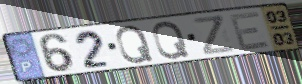2: (73, 27, 116, 72)
6: (38, 33, 77, 74)
E: (227, 10, 273, 52)
Q: (150, 19, 192, 61), (114, 24, 156, 65)
Z: (191, 13, 238, 56)
